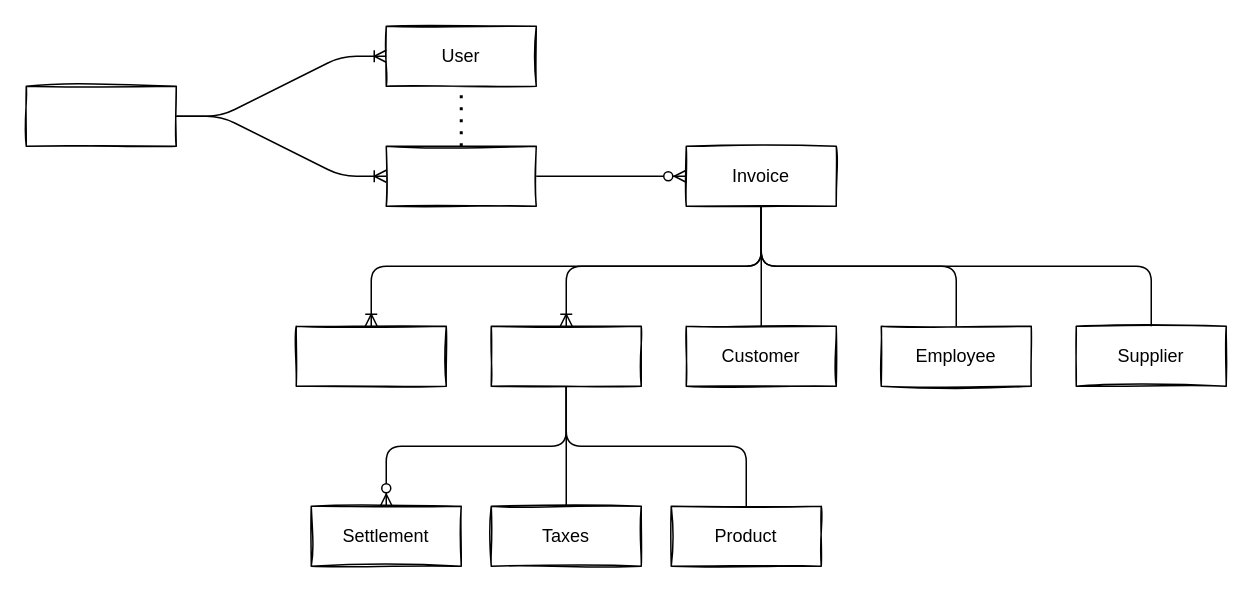
The diagram is 1253 pixels wide and 593 high, and some of its shapes have lost their labels. Here are the shapes that lost their labels. From the top down, the centre of each, then its label:
point (100, 115): Company
point (460, 175): Account
point (370, 355): Payment
point (565, 355): InvoiceLine
